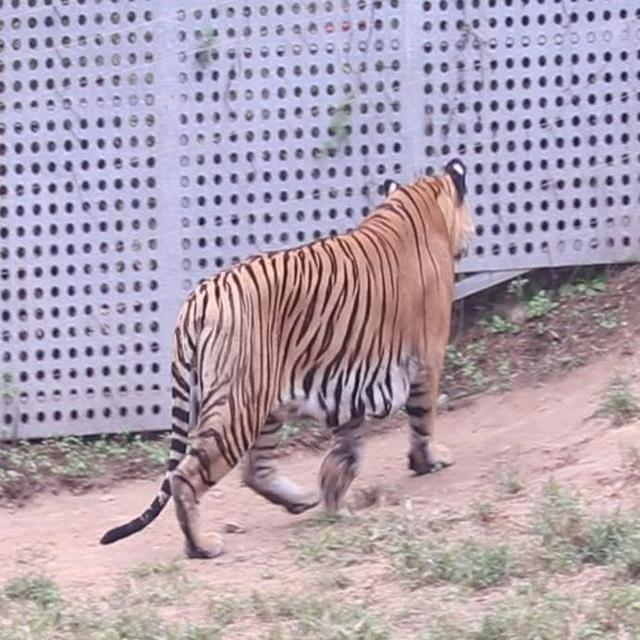tiger: (96, 133, 491, 569)
